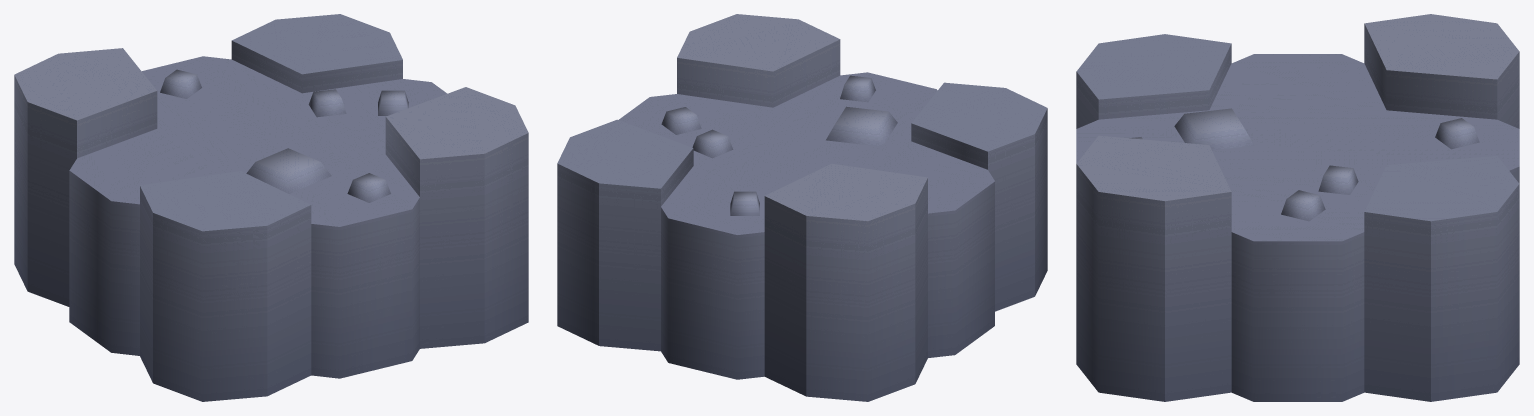
File: rocks_1.glb
The picture shows the model from 3 angles, left to right: view 1: azimuth 30°, elevation 25°; view 2: azimuth 150°, elevation 25°; view 3: azimuth 270°, elevation 25°; orthographic projection. The views are drawn at different scales.
Parts seen in each view (by area): view 1: rocks; view 2: rocks; view 3: rocks.
Boxes of the visible parts, <box> form: rocks: <box>14,14,528,401</box>; rocks: <box>557,14,1047,401</box>; rocks: <box>1076,14,1519,401</box>.
Bounding box in the file's own units: 1 × 0.5 × 1.
Materials: 1 (1 with a texture image).
